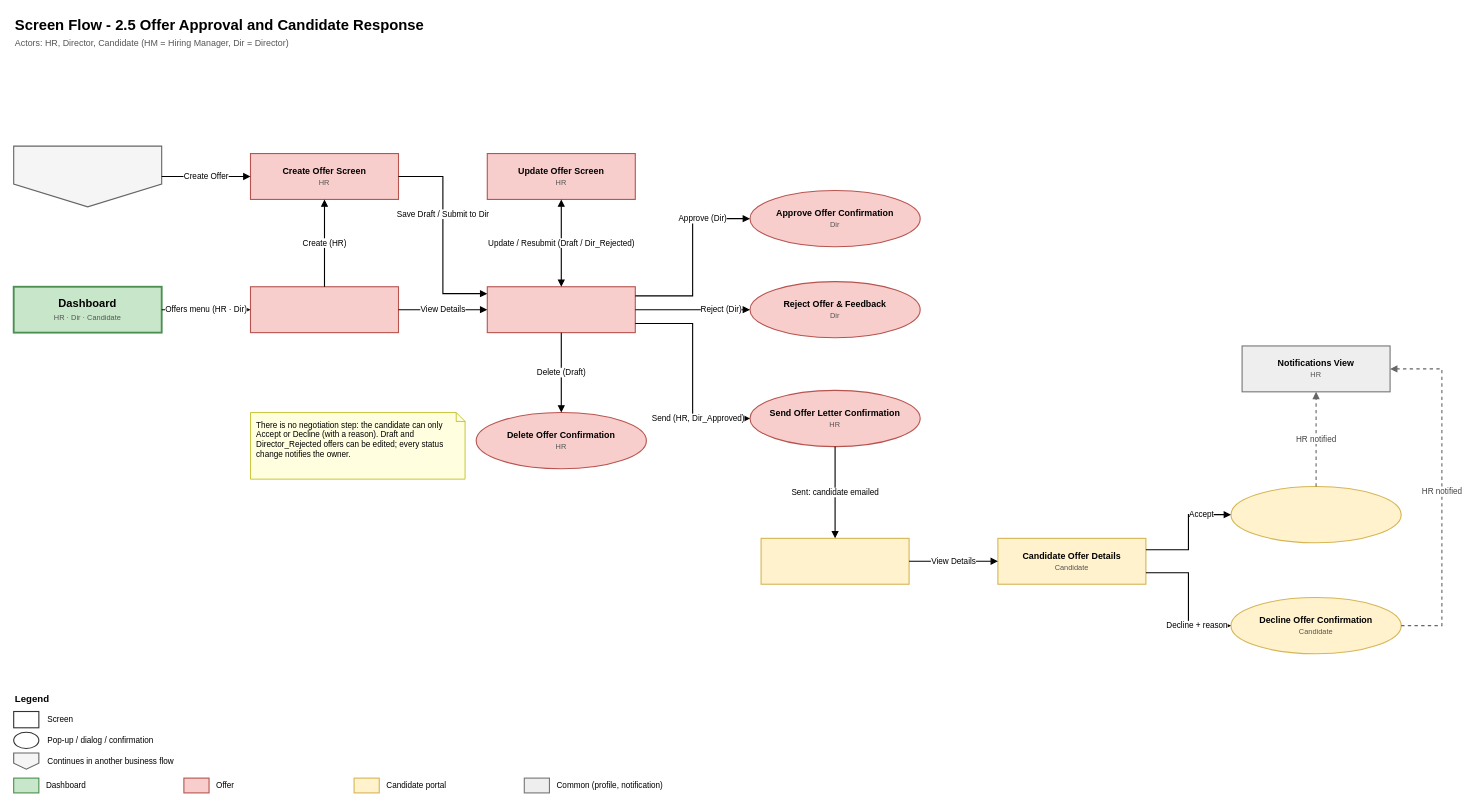
Image size: 1475x806. Some labels were removed from this diagram. Each missing label, with the centre of its shape:
Accept Offer Confirmation Candidate: point 1315,514
Candidate Offer List Candidate: point 834,560
Flow 2.3: Interview Result Details (HM passed): point 87,176
Internal Offer Management HR · Dir: point 324,309
Offer Proposal Details HR · Dir: point 561,309
